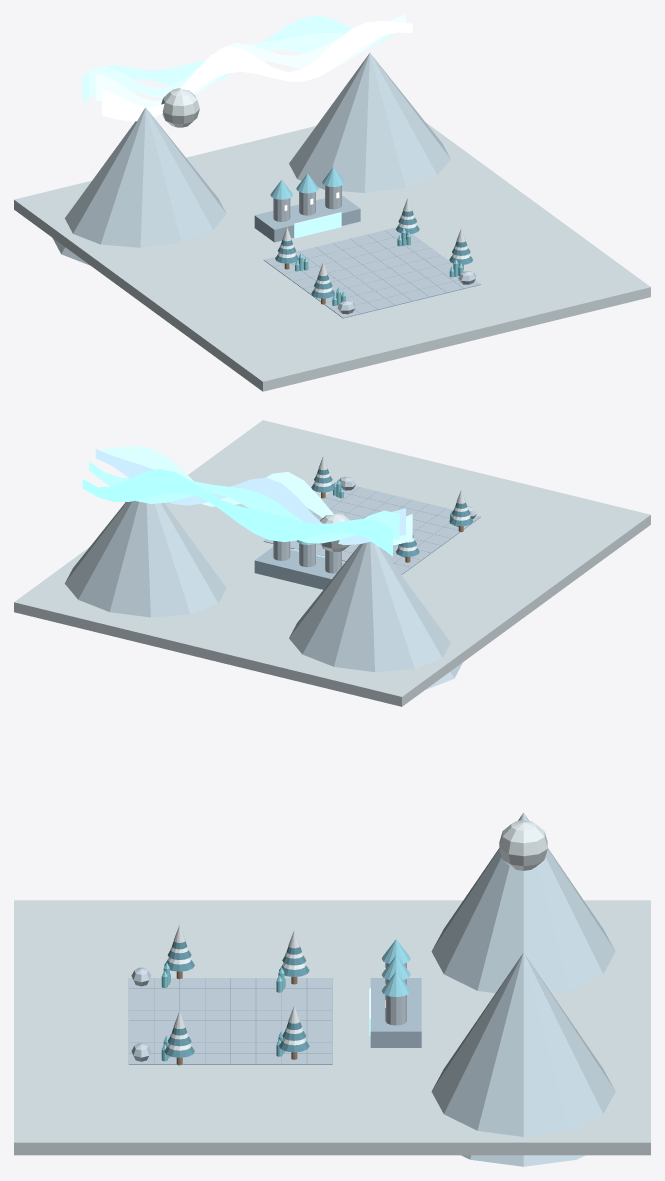
Rendered from 04_Ice.glb.
3 views of the same model, one above another, from view 1: azimuth 30°, elevation 25°; view 2: azimuth 150°, elevation 25°; view 3: azimuth 270°, elevation 25° (orthographic). The views are drawn at different scales.
Visible parts, largest first — view 1: snow_ground, mountain (×2), aurora_curtain (×4), ice_castle_cliff, Moon, frozen_waterfall, Arena_Base; view 2: snow_ground, mountain (×2), aurora_curtain (×4), ice_castle_cliff, Moon; view 3: snow_ground, mountain (×2), ice_castle_cliff, Moon, Arena_Base, tower.
Boxes of the visible parts, x1,y1,x2,y2 form: snow_ground: [14, 122, 650, 391]; mountain (×2): [52, 53, 450, 265]; aurora_curtain (×4): [82, 14, 412, 121]; ice_castle_cliff: [254, 195, 360, 242]; Moon: [161, 88, 199, 127]; frozen_waterfall: [293, 212, 341, 238]; Arena_Base: [264, 230, 480, 318]; snow_ground: [14, 420, 650, 706]; mountain (×2): [65, 501, 462, 689]; aurora_curtain (×4): [82, 446, 412, 556]; ice_castle_cliff: [254, 547, 344, 589]; Moon: [320, 512, 349, 551]; snow_ground: [14, 900, 650, 1155]; mountain (×2): [431, 812, 615, 1166]; ice_castle_cliff: [370, 978, 421, 1047]; Moon: [499, 820, 547, 870]; Arena_Base: [128, 978, 332, 1064]; tower: [385, 995, 406, 1025].
Size of the model in its own units: 45.6 by 18.49 by 50.
